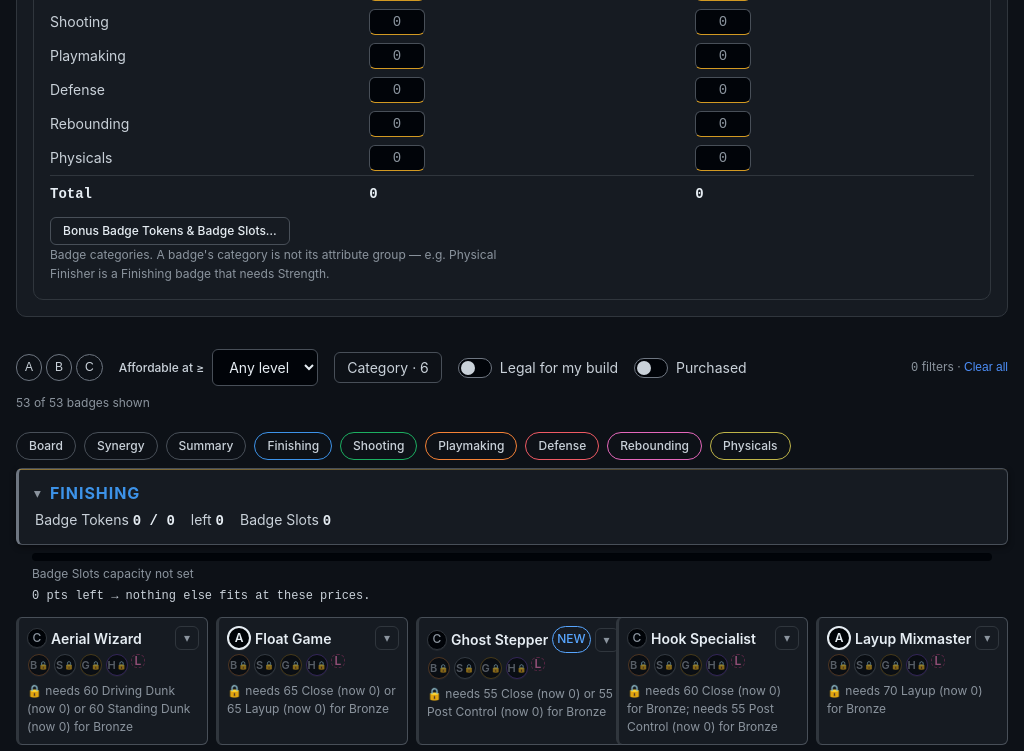
Test case: tier filter › tier chips are aria-pressed toggles that narrow the grid (22 A badges)
(page scrolled)
Click the button "A": coordinates (29, 368) [16, 354, 42, 381]
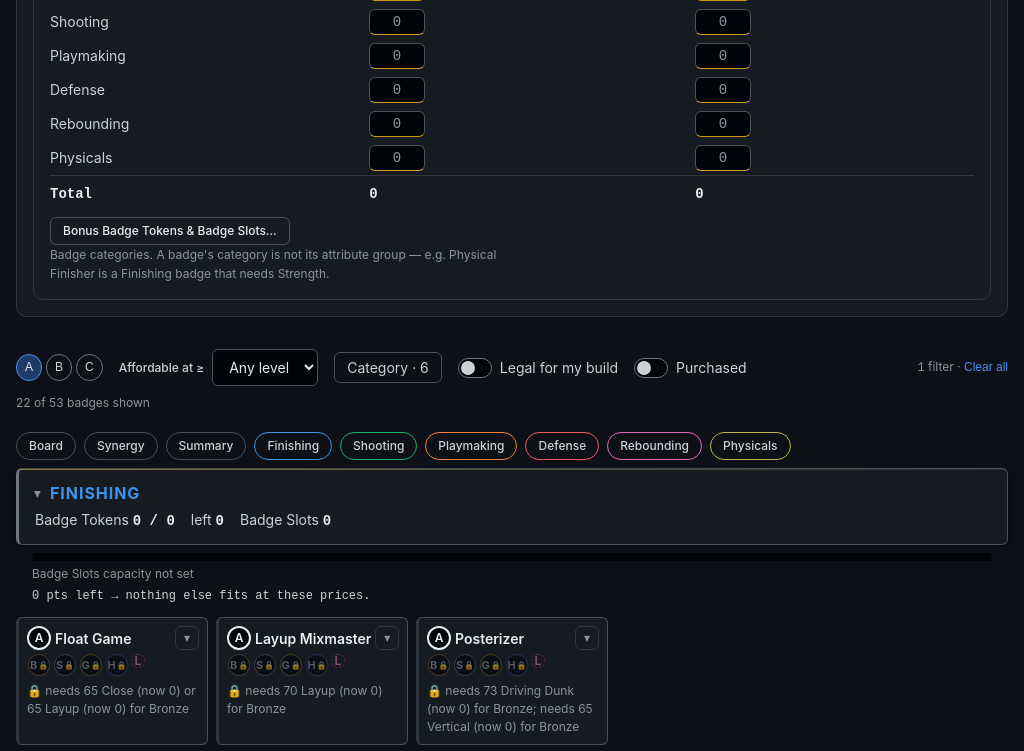
Expected: the text "22 of 53 badges shown" is shown, [16, 395, 150, 410]
Expected: the element with class "filter-bar__count" shows "1 filter ·", [917, 358, 1008, 377]
